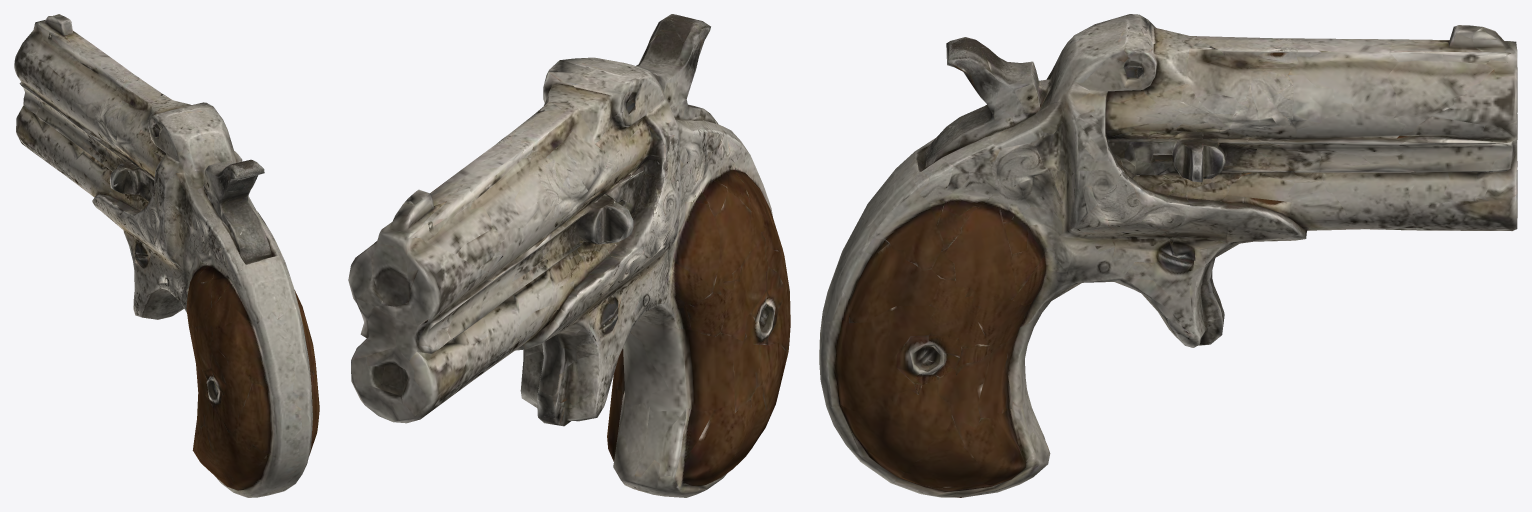
File: derringer.8965ba59.glb
The picture shows the model from 3 angles, left to right: view 1: azimuth 30°, elevation 25°; view 2: azimuth 150°, elevation 25°; view 3: azimuth 270°, elevation 25°; orthographic projection. The views are drawn at different scales.
Visible parts, largest first — view 1: item; view 2: item; view 3: item.
Part boxes in pixels (x1,y1,x2,y2): item: [14, 14, 319, 497]; item: [348, 14, 790, 497]; item: [819, 14, 1517, 497].
Bounding box in the file's own units: 0.0291 × 0.0949 × 0.13.
1 material, 1 textured.
